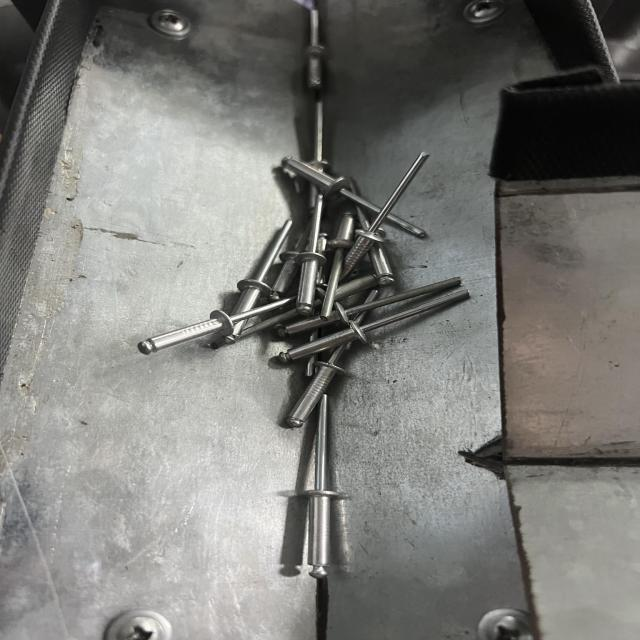rivet: (133, 272, 366, 357), (277, 277, 470, 366), (291, 390, 347, 588)
